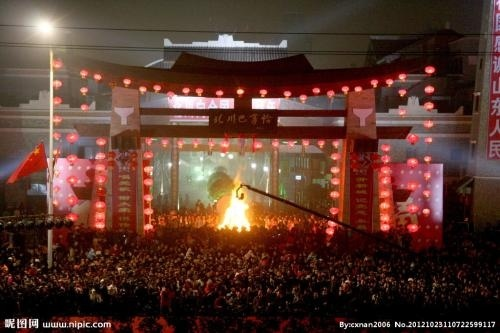fire: (218, 181, 252, 230)
